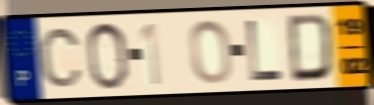1: (140, 21, 162, 86)
C: (37, 26, 85, 90)
D: (286, 11, 335, 84)
L: (245, 17, 285, 83)
O: (84, 20, 130, 92), (188, 18, 234, 86)
